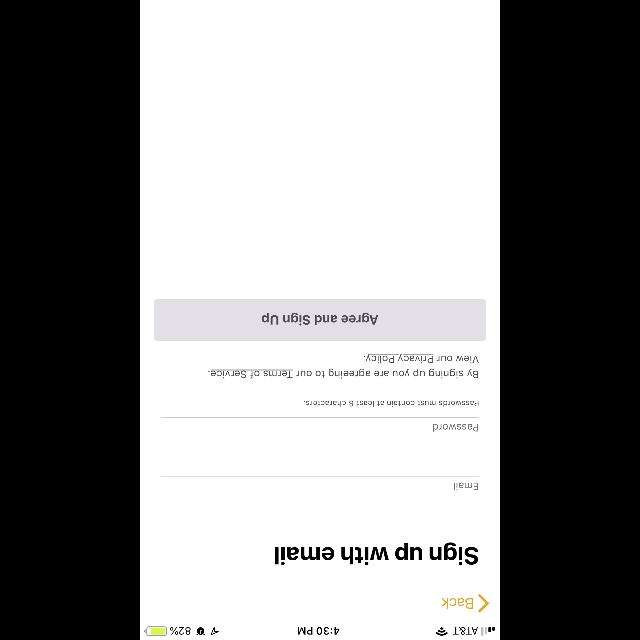icon: (478, 594, 488, 612)
input: (161, 416, 479, 432), (161, 476, 479, 490)
text: (207, 354, 478, 378), (276, 542, 478, 566), (304, 400, 478, 406), (432, 424, 478, 432), (442, 598, 472, 608), (454, 482, 478, 490)
textbutton: (154, 299, 486, 341)
uppertaskbar: (140, 626, 500, 640)
